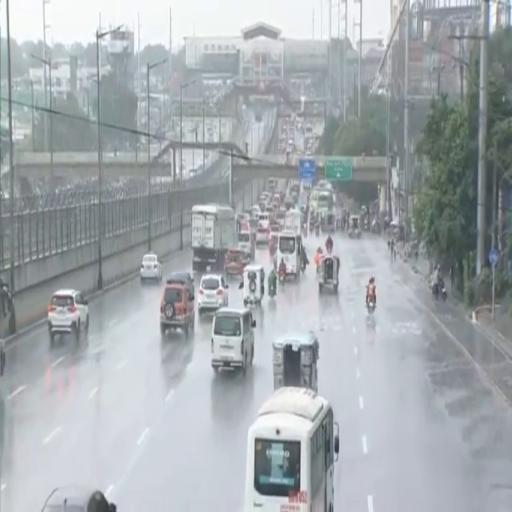bus: (244, 388, 339, 511)
car: (48, 290, 89, 343), (160, 282, 194, 337), (42, 486, 116, 511), (198, 275, 229, 316), (166, 271, 194, 294), (140, 253, 163, 281)
jeepney: (273, 331, 318, 391)
motorcycle: (432, 281, 447, 301), (367, 297, 375, 314), (269, 284, 276, 298), (279, 269, 285, 284), (300, 259, 306, 273), (326, 243, 332, 254), (315, 226, 320, 236), (303, 226, 307, 237)
truck: (191, 204, 237, 271), (283, 210, 302, 235)
